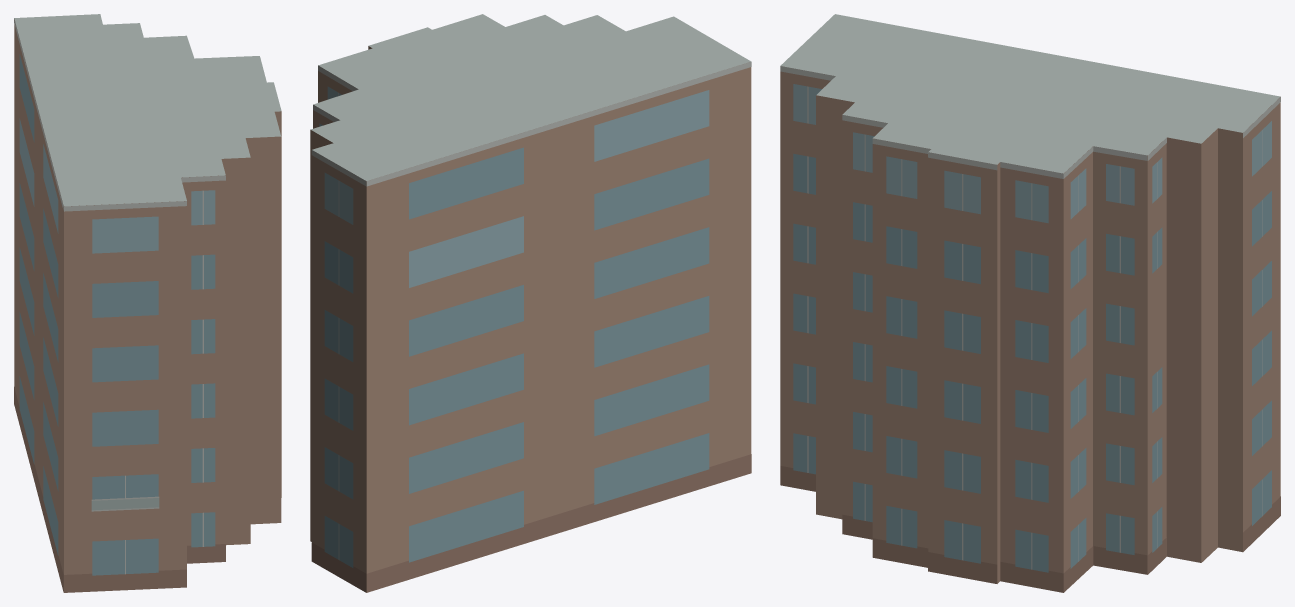
Rendered from survey-upis-32532379.glb.
3 views of the same model, side by side, from view 1: azimuth 30°, elevation 25°; view 2: azimuth 150°, elevation 25°; view 3: azimuth 270°, elevation 25° (orthographic). The views are drawn at different scales.
Visible parts, largest first — view 1: survey-upis-32532379.tmp; view 2: survey-upis-32532379.tmp; view 3: survey-upis-32532379.tmp.
Part boxes in pixels (left/top/right/bottom): survey-upis-32532379.tmp: left=14, top=14, right=281, bottom=592; survey-upis-32532379.tmp: left=310, top=14, right=751, bottom=592; survey-upis-32532379.tmp: left=780, top=14, right=1280, bottom=592.
Size of the model in its own units: 15.11 by 18.5 by 20.02.
